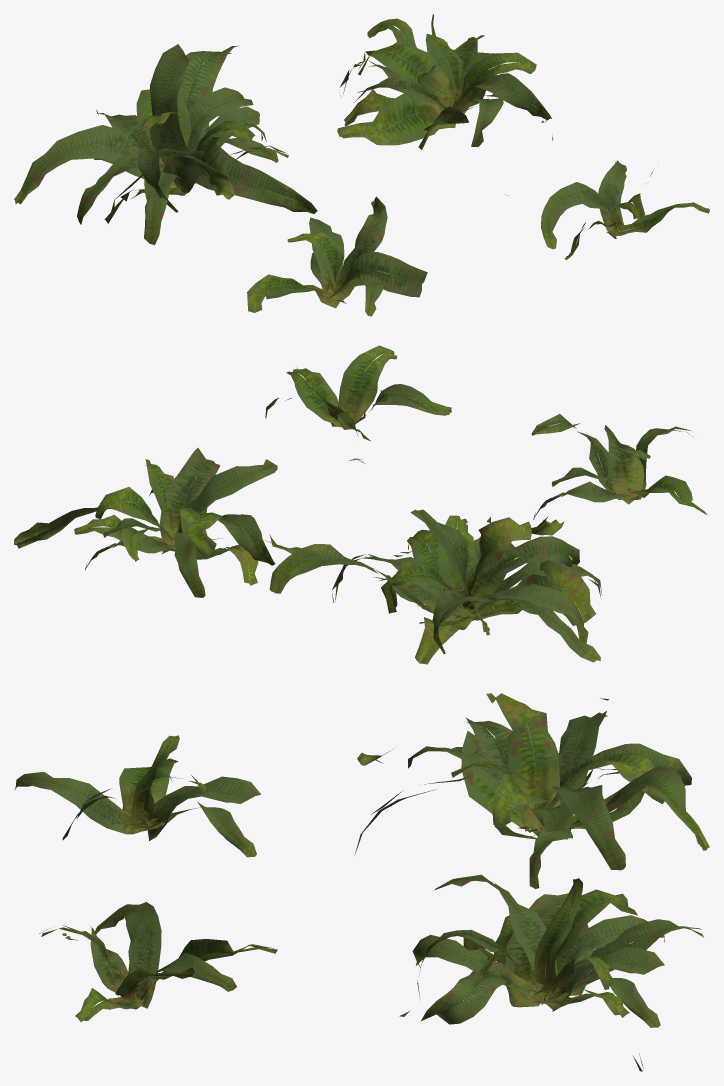
Rendered from ph_fern_02.glb.
3 renders of one model, top to bottom at view 1: azimuth 30°, elevation 25°; view 2: azimuth 150°, elevation 25°; view 3: azimuth 270°, elevation 25°, orthographic. The views are drawn at different scales.
Visible parts, largest first — view 1: Hero; view 2: Hero; view 3: Hero.
Part boxes in pixels (left/top/right/bottom): Hero: left=14, top=14, right=709, bottom=316; Hero: left=14, top=345, right=707, bottom=664; Hero: left=14, top=693, right=709, bottom=1071.
Size of the model in its own units: 1 by 0.2176 by 0.8742.
Materials: 1 (1 with a texture image).
